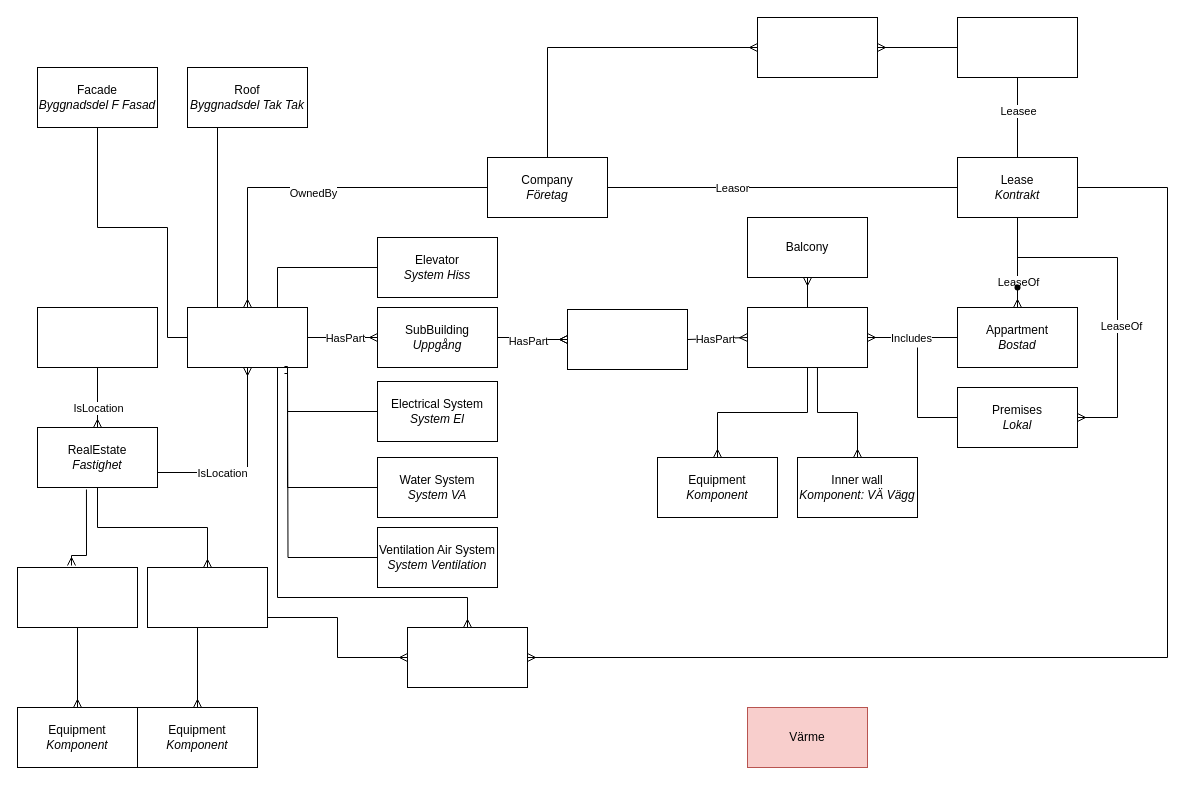
Some shapes in this 1193 by 785 pixel diagram are drawn without their labels. Here are the shapes that lost their labels. From the top down, the centre of each, then its label:
point 817,47: PostalAddress Adress
point 1017,47: Person Kontakt
point 97,337: Region Område
point 247,337: Building Byggnad
point 627,339: Level Bostad: Våning
point 807,337: Room Rum
point 77,597: OutdoorSpace Markyta
point 207,597: Zone Markyta
point 467,657: Parkingspace Fordonsplats
